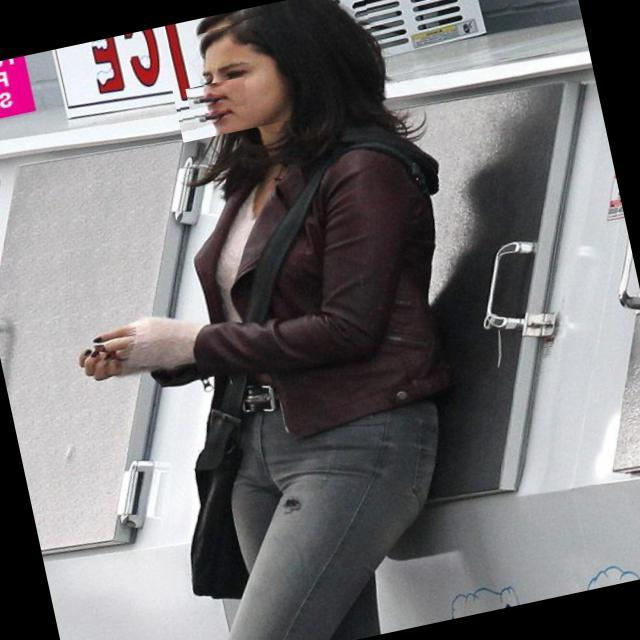cigarette: (187, 76, 250, 116)
